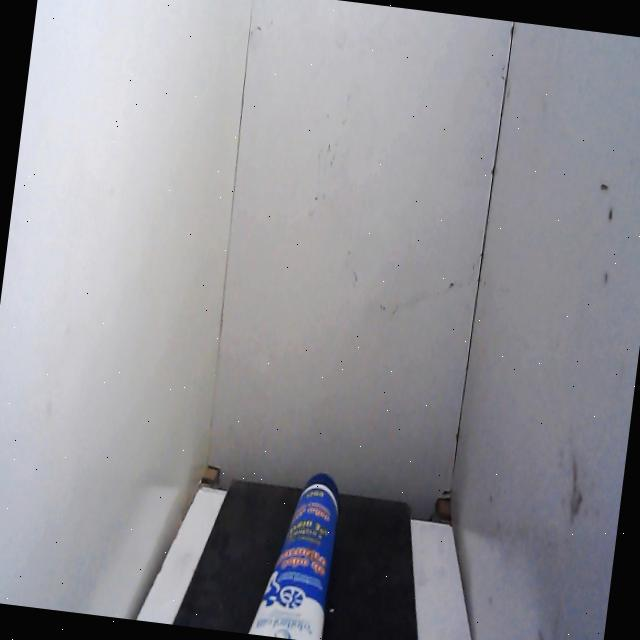plastic: (239, 457, 352, 640)
